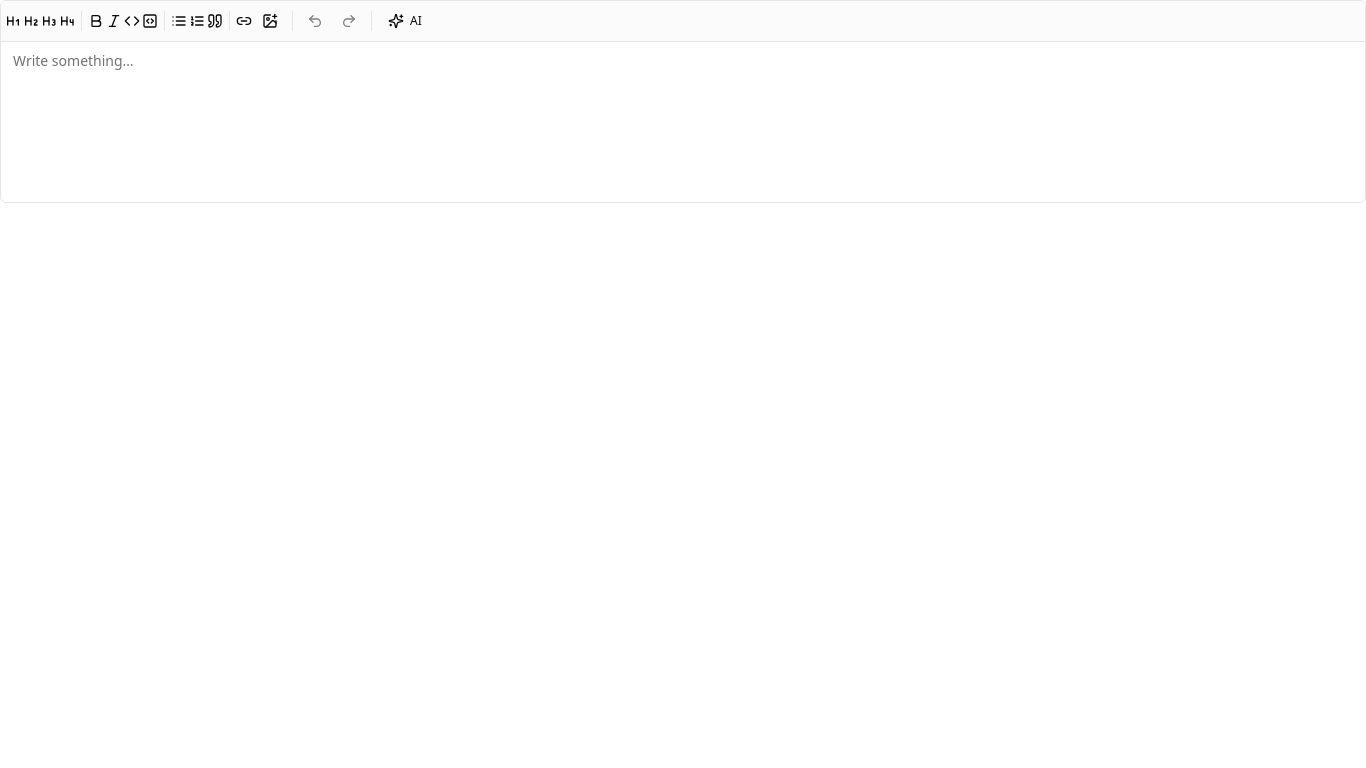
RichTextEditor › inserts an image from a pasted URL
Step 1. Click the field named "rich text editor" → (683, 122), box [1,42,1365,202]
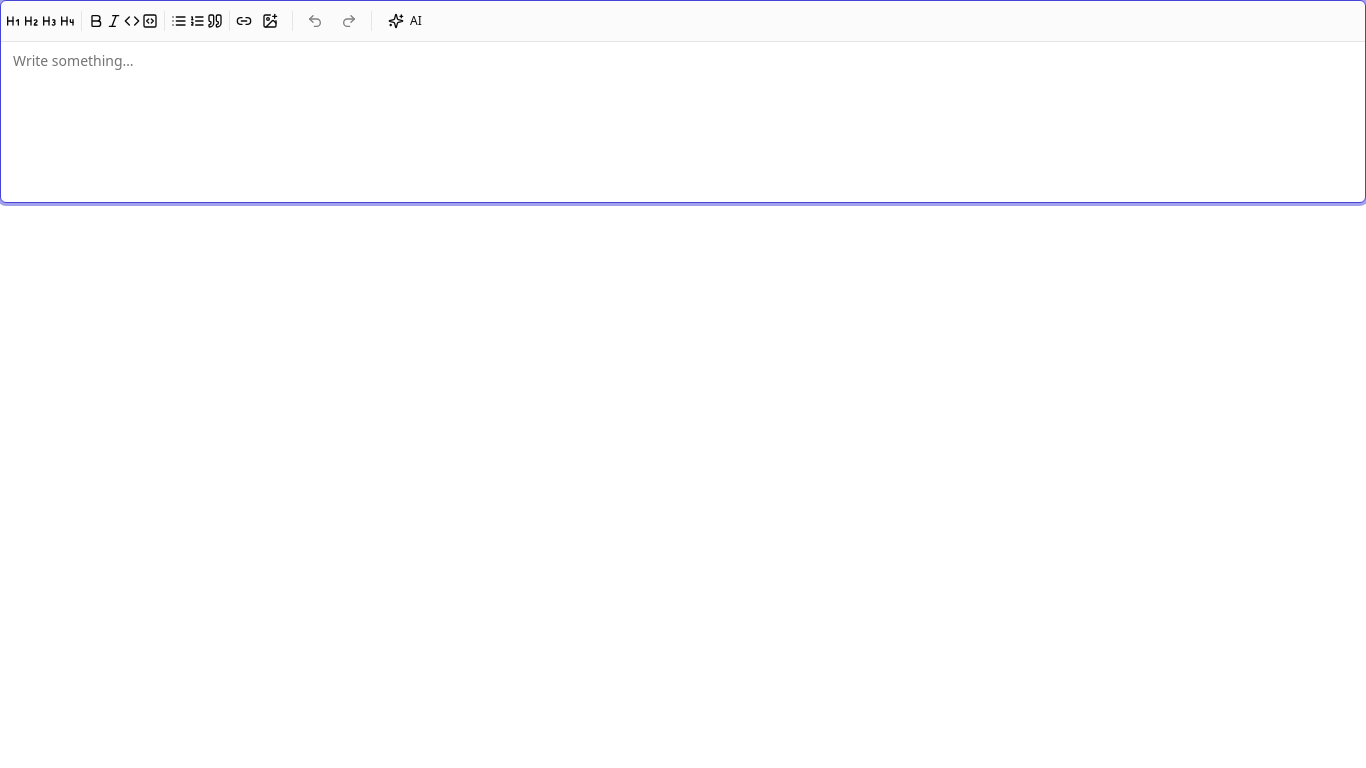
Step 2. Click the button named "insert image" → (270, 21), box [254,5,286,37]
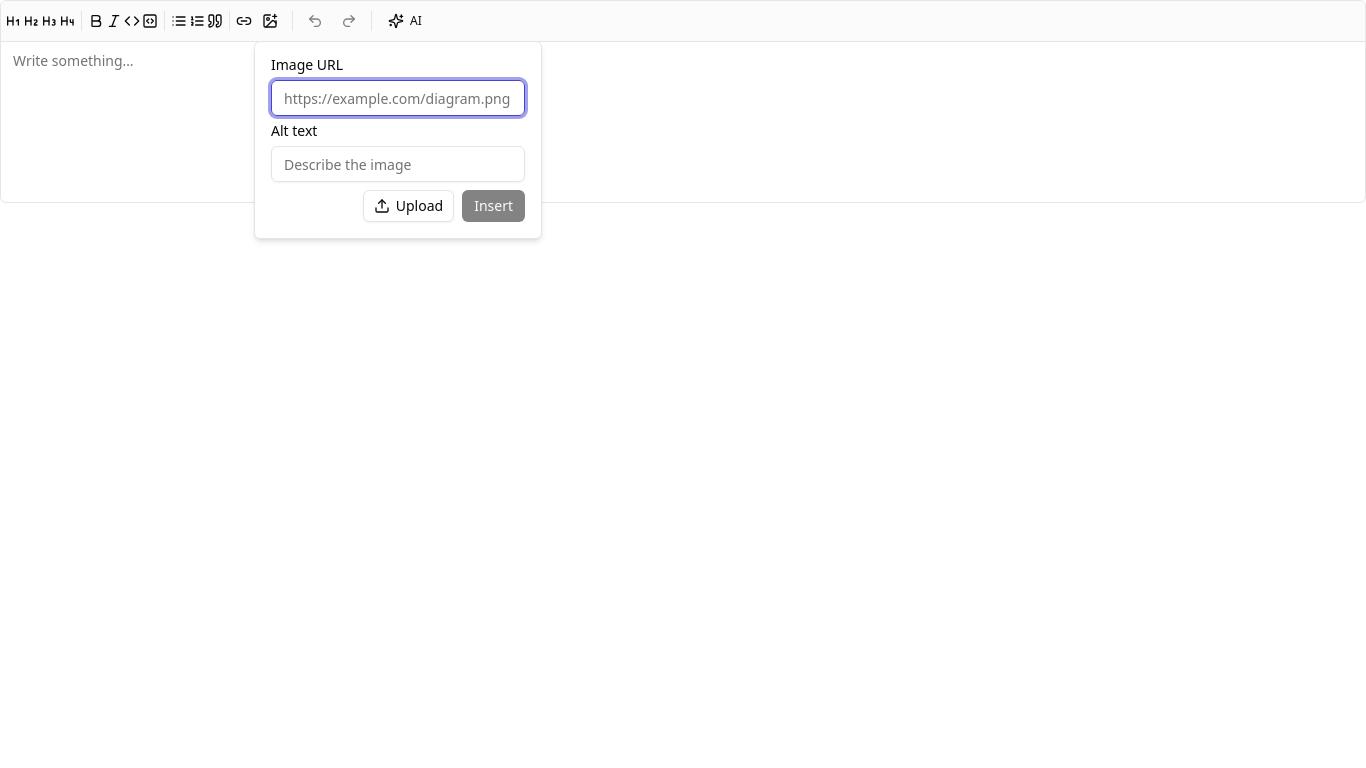
Step 3. Type "https://cdn.test/a.png" into the field labelled "Image URL" → (398, 98), box [271,80,525,116]
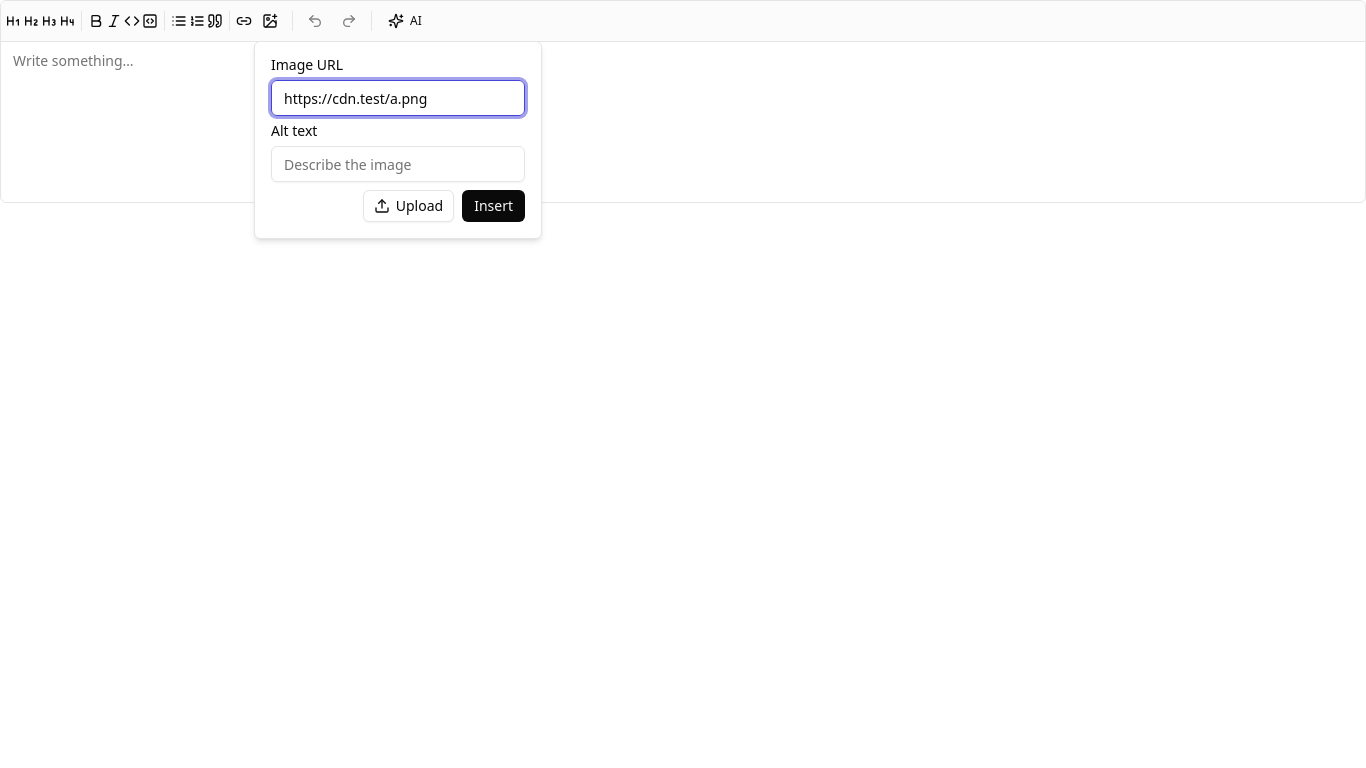
Step 4. Type "Diagram" into the field labelled "Alt text" → (398, 164), box [271,146,525,182]
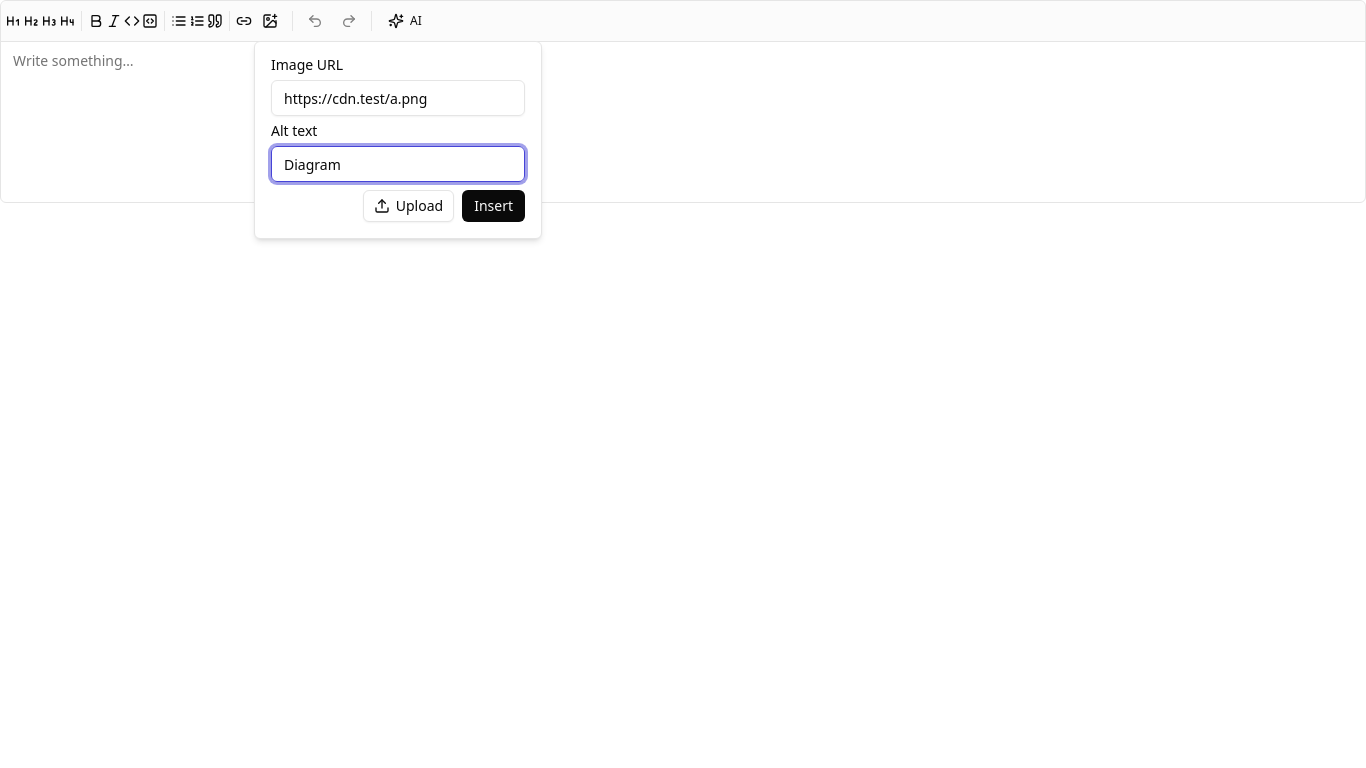
Step 5. Click the button "Insert" → (494, 206), box [462,190,525,222]
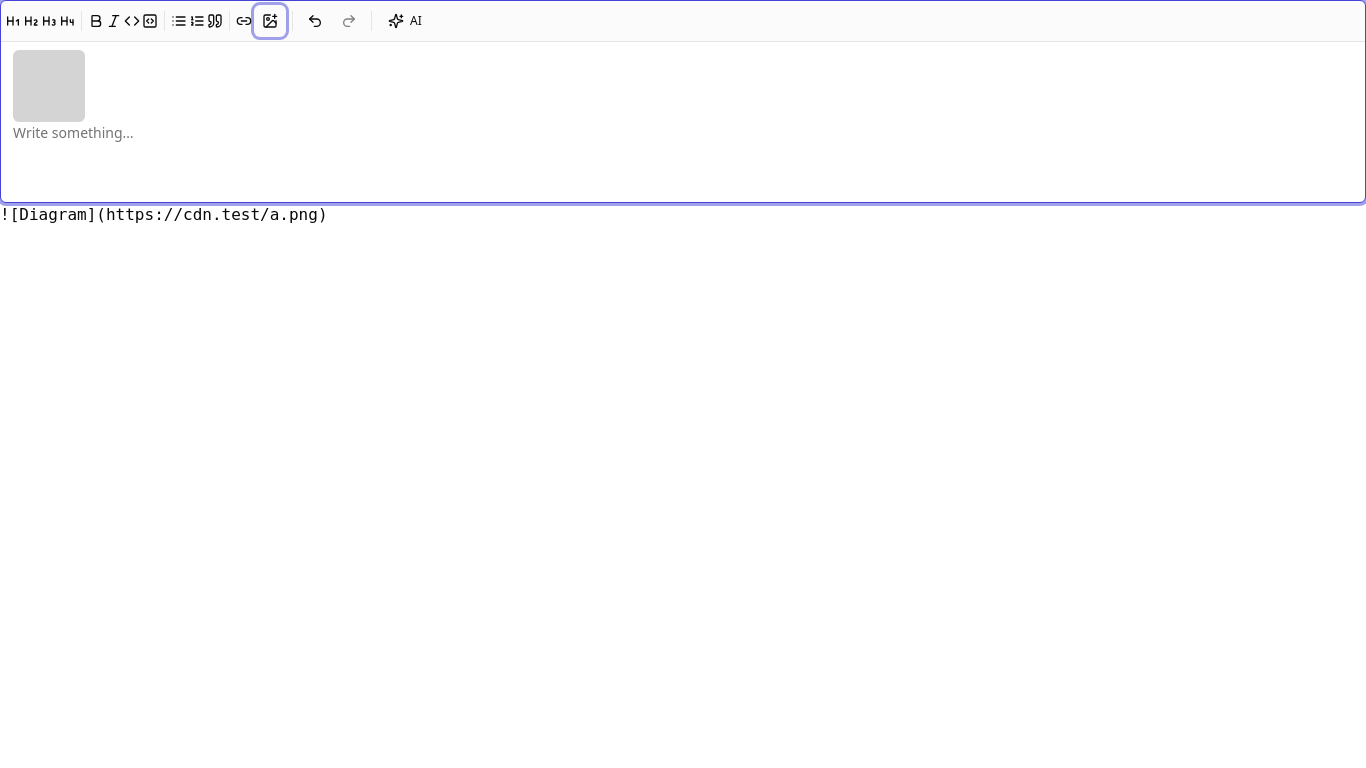
Expected: the text with test id "markdown" reads "![Diagram](https://cdn.test/a.png)", [0,205,328,224]
